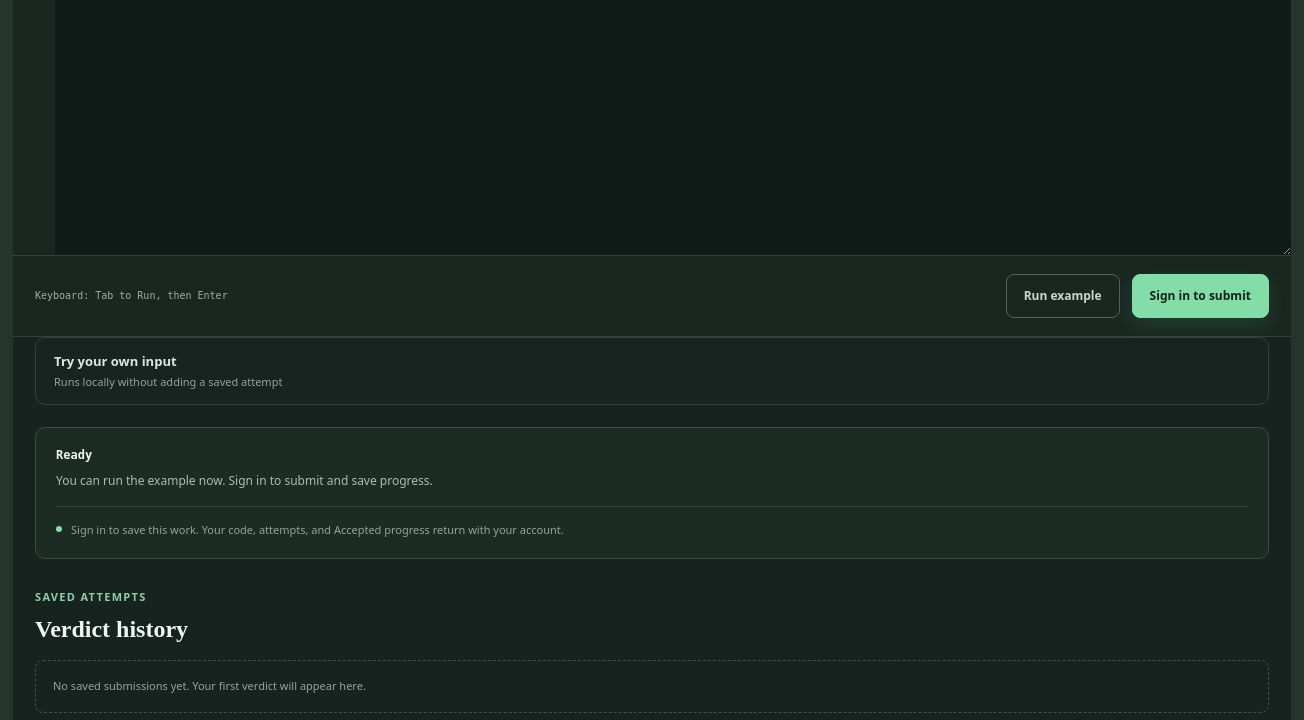
CodingWorkspace › keeps signed-out custom runs local and hides private saving controls
(page scrolled)
Step 1. Click the text "Try your own input" → (115, 361), box [54,352,177,370]
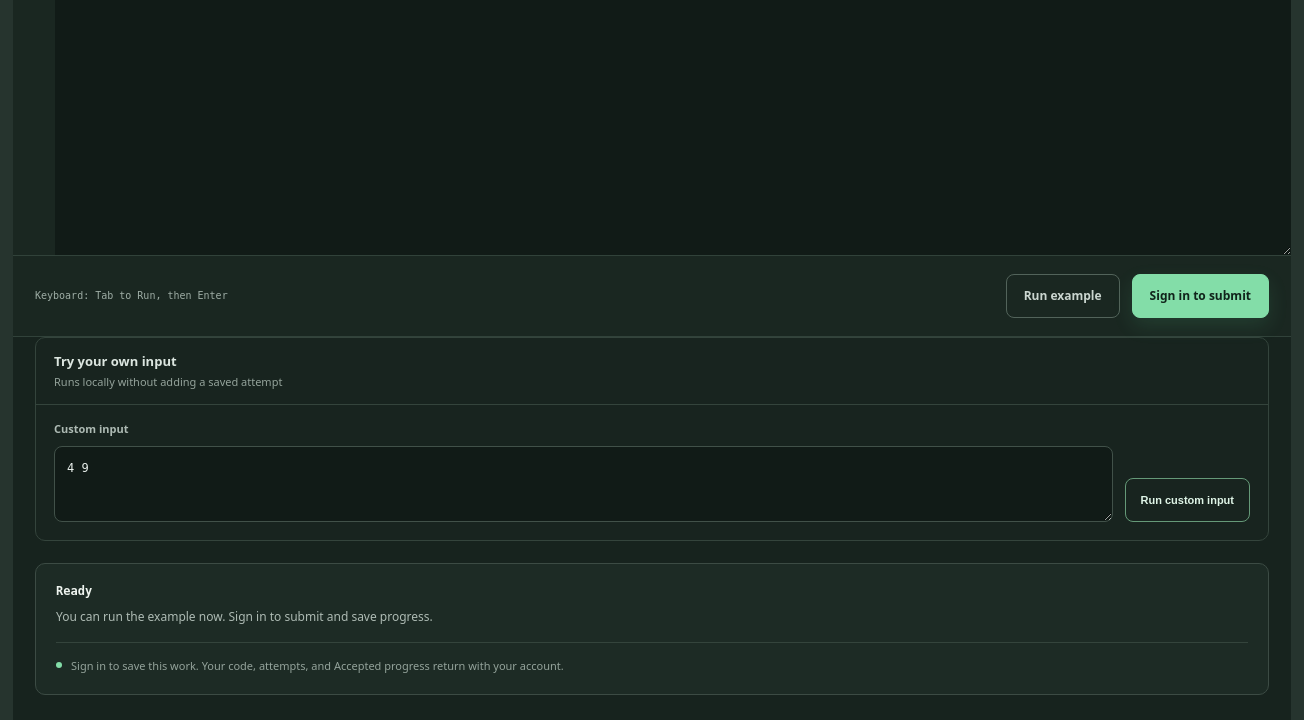
expect the button "Run custom input" is shown: met, box [1124,478,1250,522]
